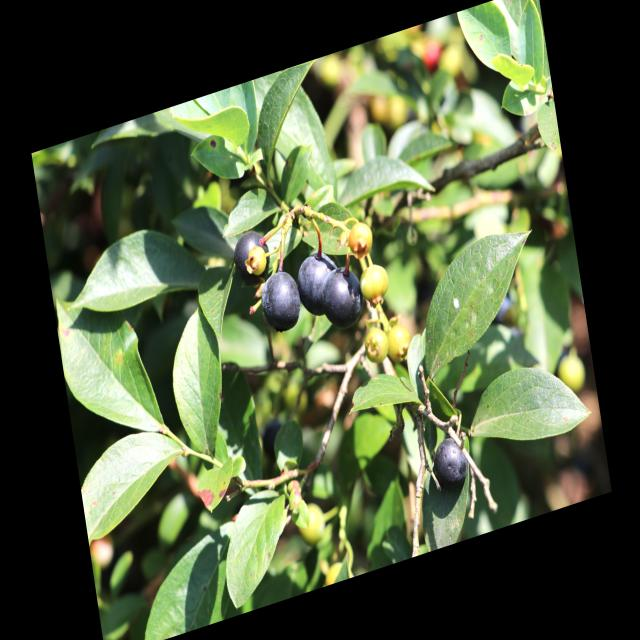blueberry: (255, 258, 307, 338), (317, 259, 369, 335), (293, 244, 343, 323), (428, 432, 474, 492), (231, 226, 272, 286)
blueberry-unripe: (358, 258, 392, 307), (345, 216, 375, 261), (384, 318, 413, 364), (363, 321, 392, 366), (245, 243, 268, 278)
